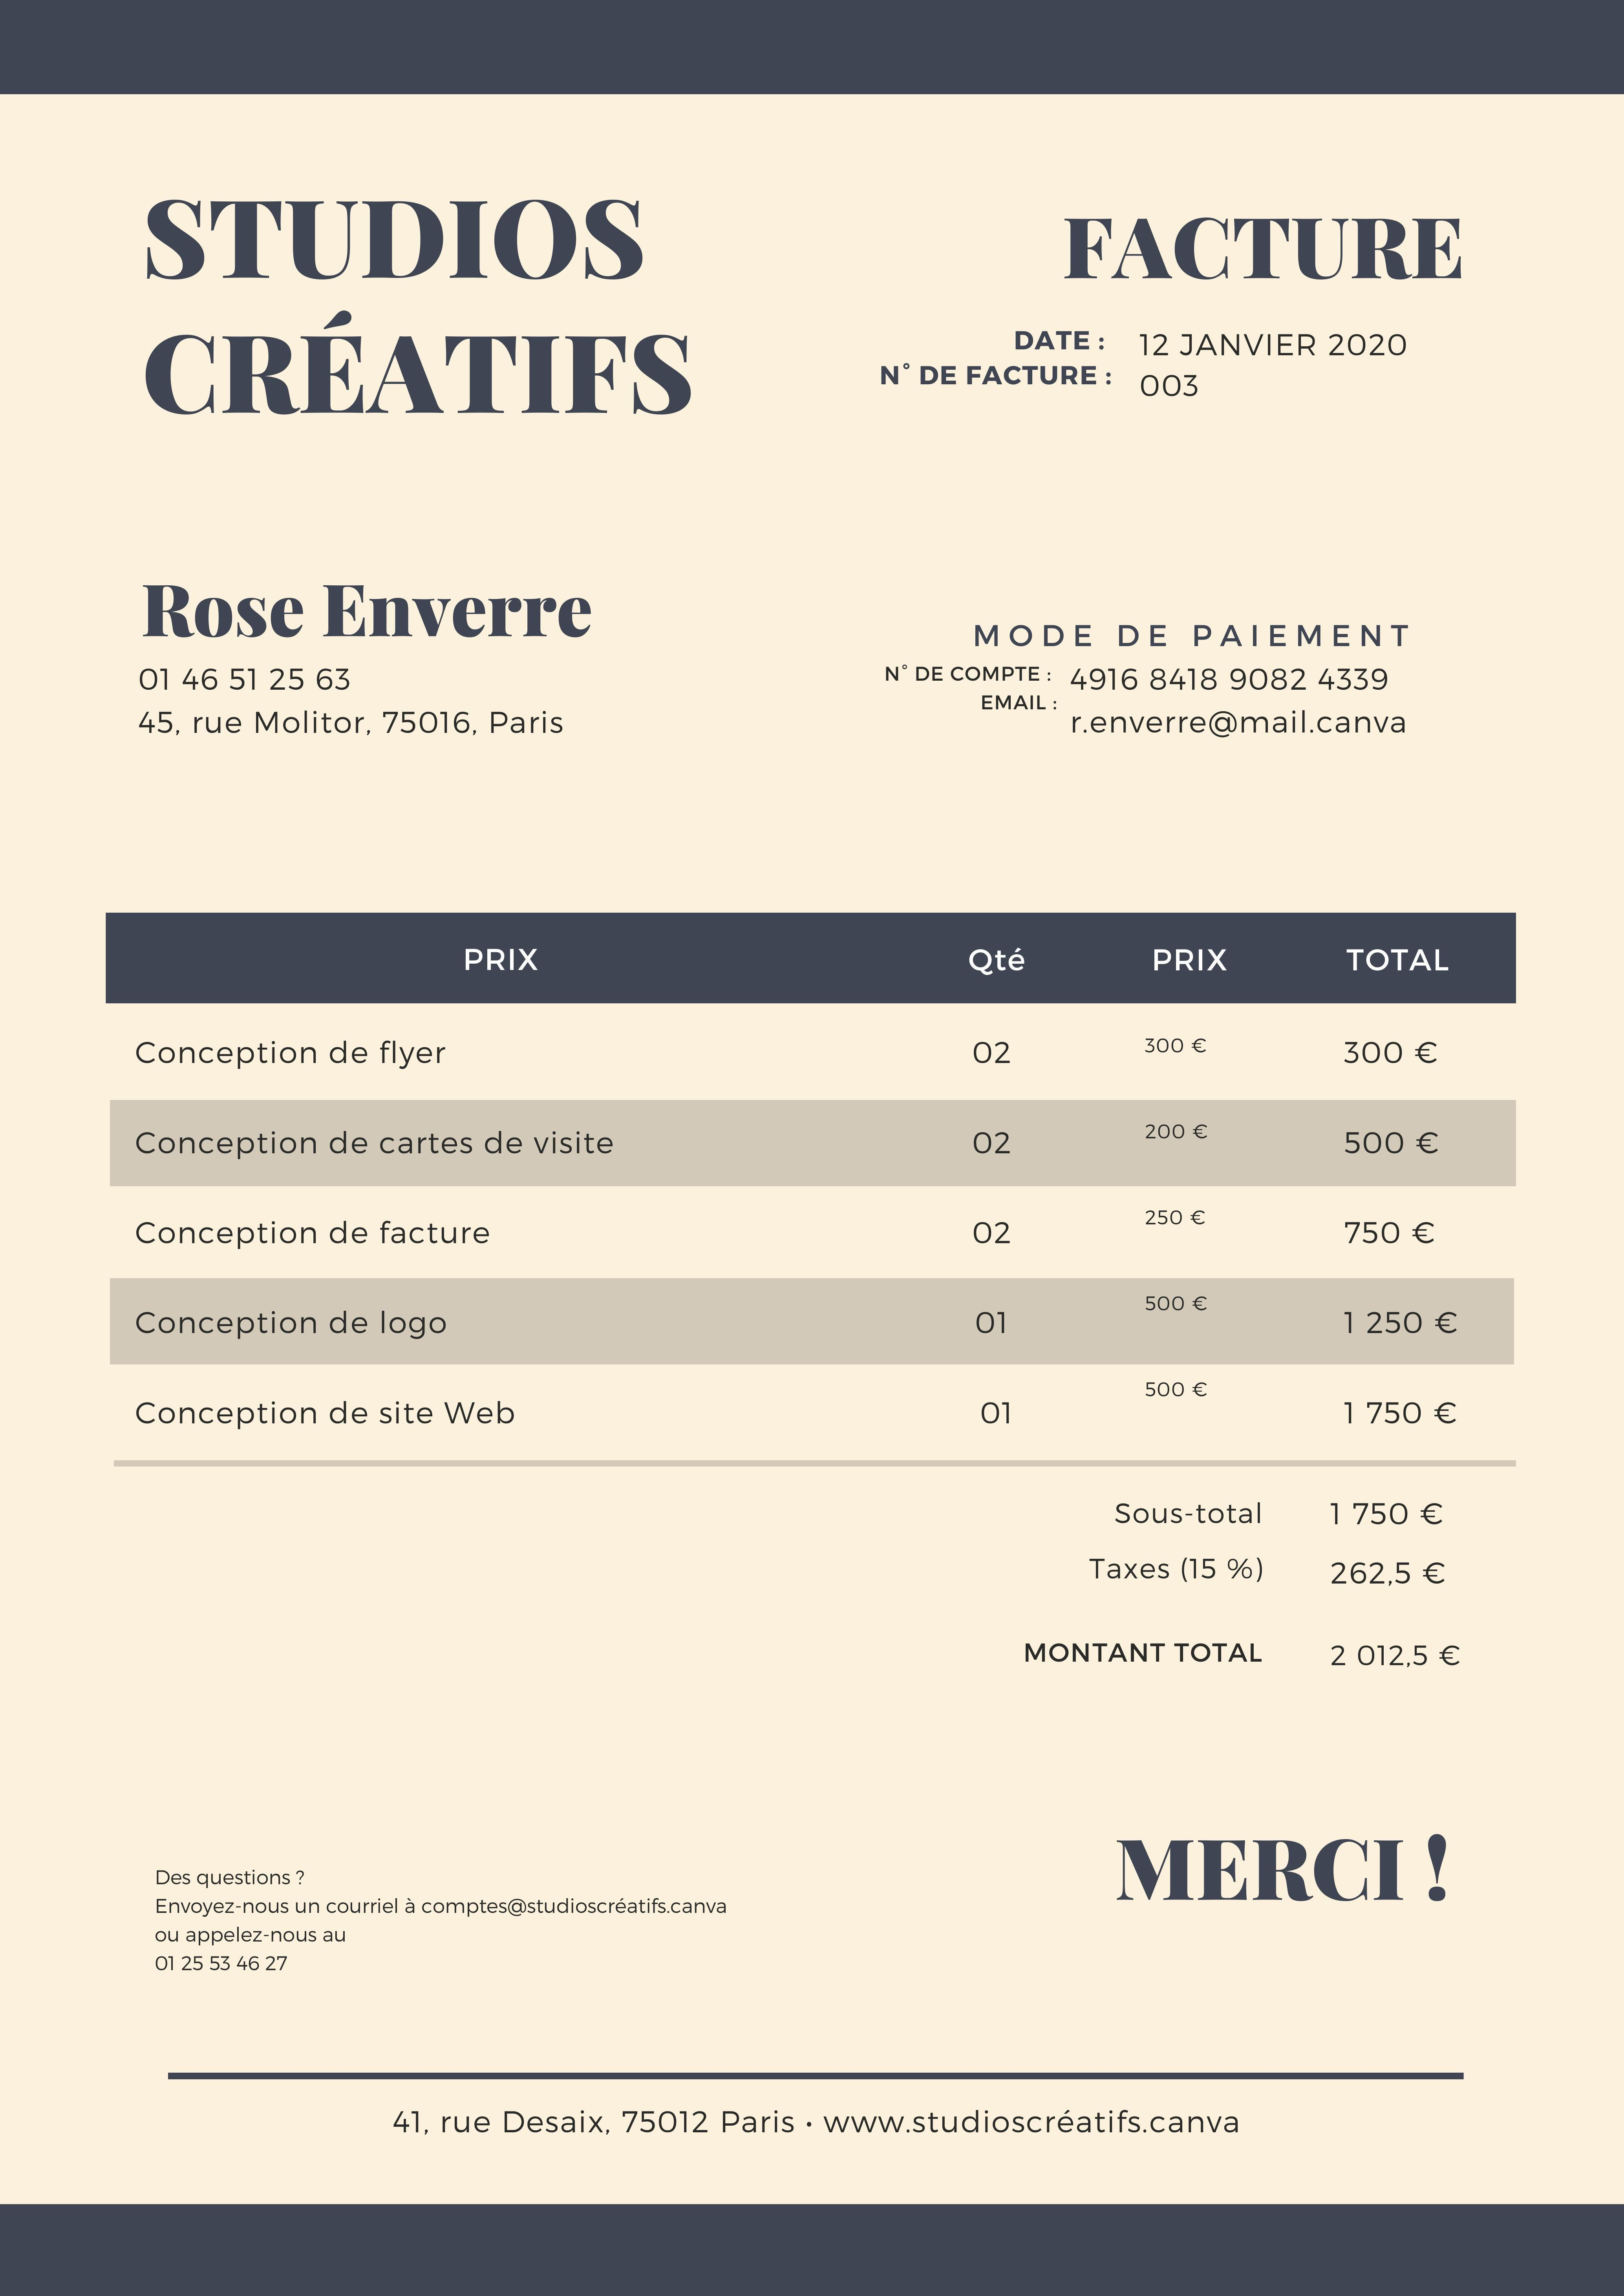ROI: (105, 910, 1494, 1446), (95, 139, 736, 451), (95, 559, 664, 759), (1012, 1481, 1475, 1681), (858, 603, 1425, 764), (856, 316, 1429, 406)
